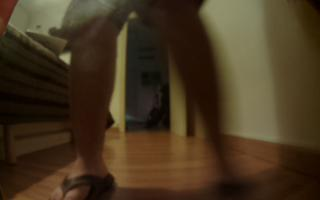person: (49, 1, 244, 200)
